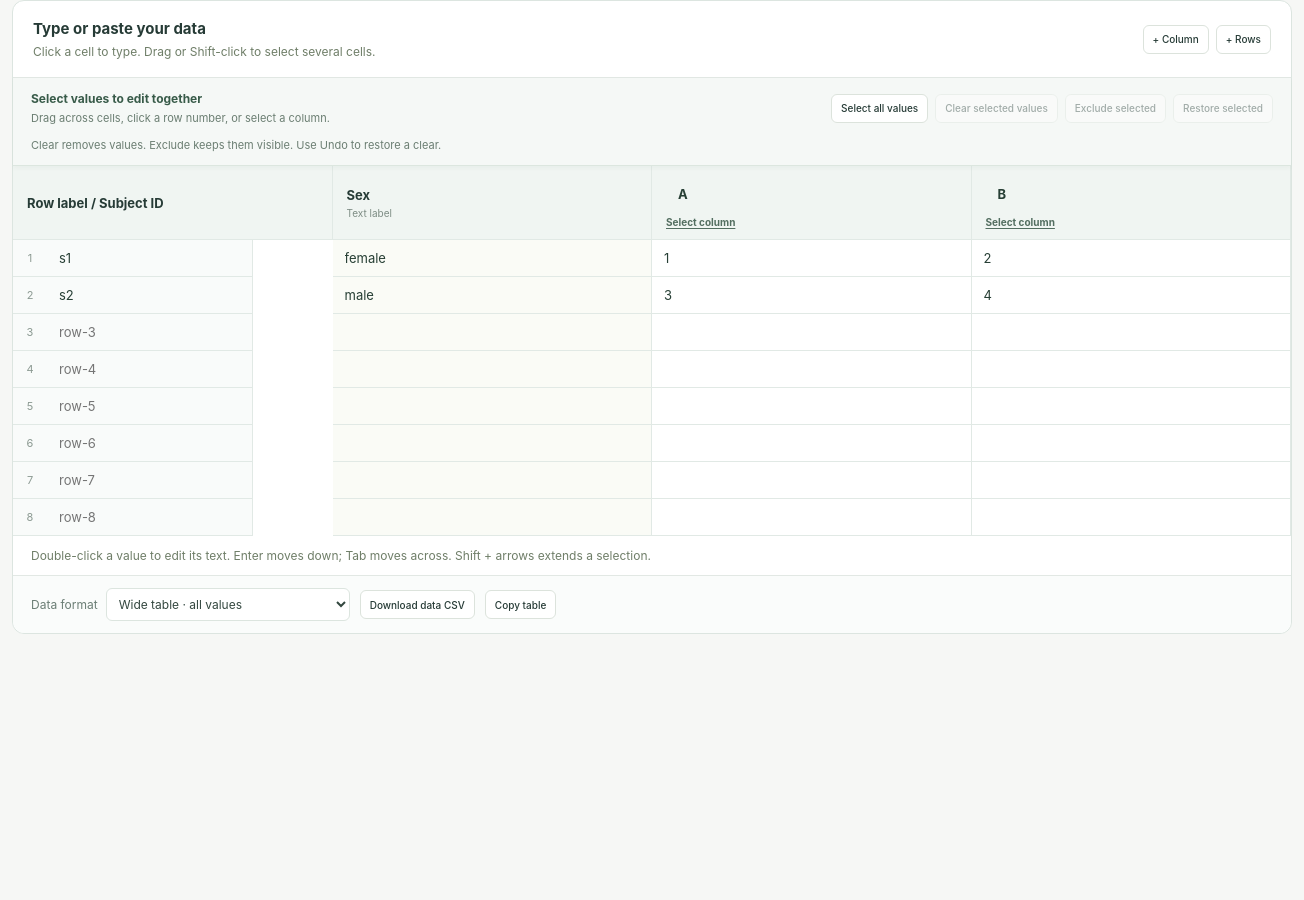
Test case: preserves descriptive columns and excludes values visibly through the context menu
The image size is (1304, 900).
Later steps or results of the test are not shown.
Expected: the field named "Sex, row 1" is shown, [332,240,651,276]
Right-click the field named "A, row 1" at (811, 258), box [652,240,970,276]
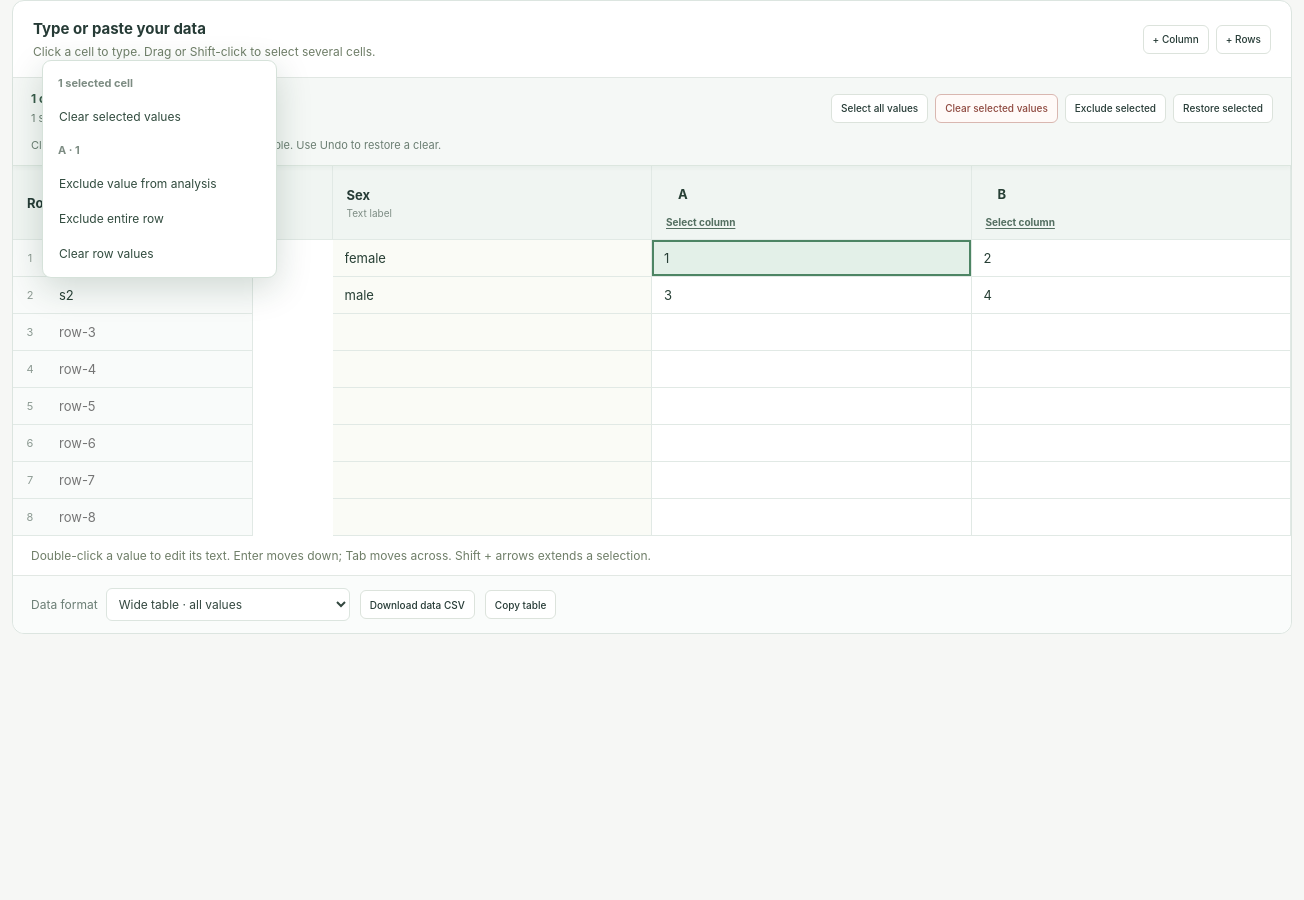
Click the menu item "Exclude value from analysis" at (160, 184), box [49,166,270,201]
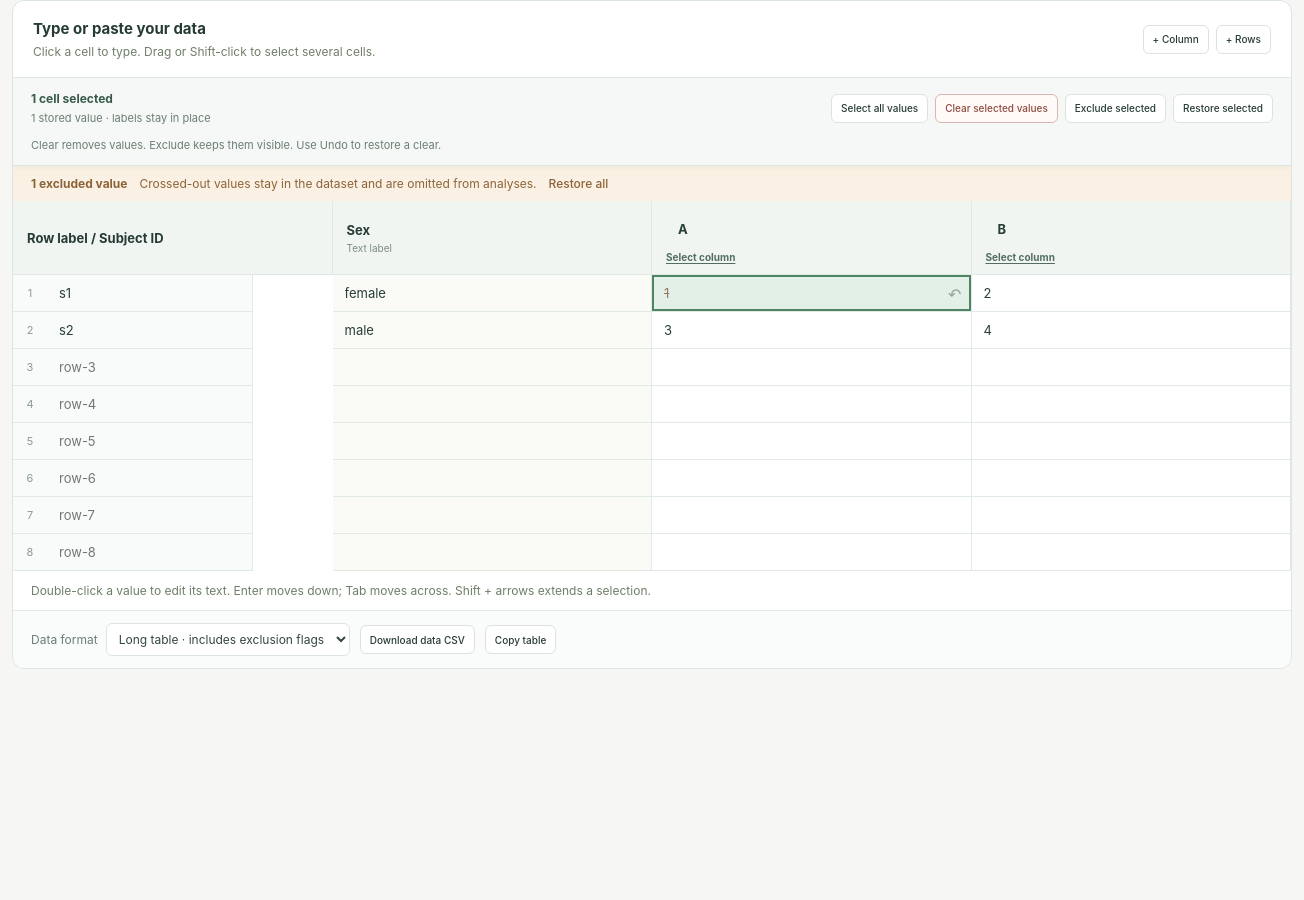
Expected: the text "1 excluded value" is shown, [31,176,128,191]
